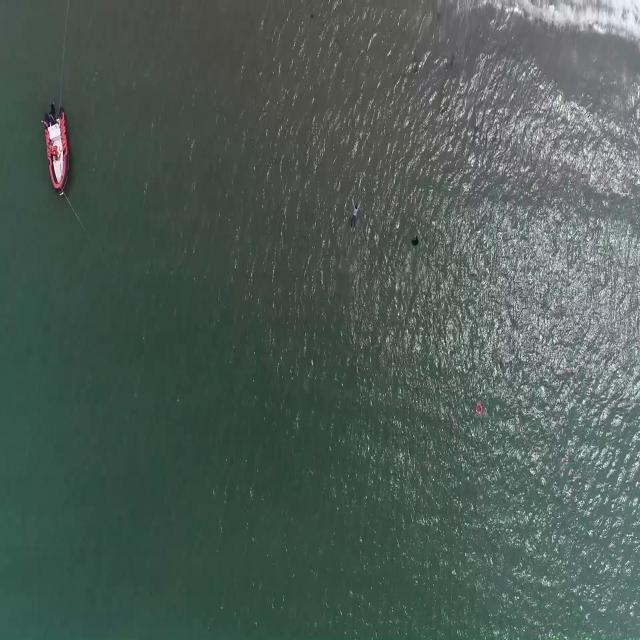boat: (40, 104, 70, 193)
life_buoy: (475, 402, 483, 417)
person: (349, 198, 362, 229), (410, 231, 420, 251)
